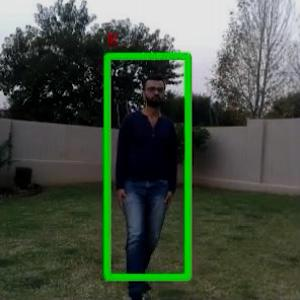follow: (110, 60, 180, 298)
